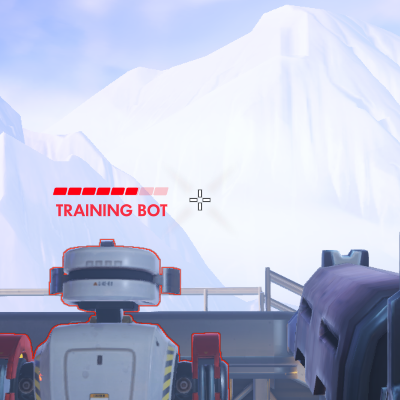hpbar: (52, 186, 169, 196)
